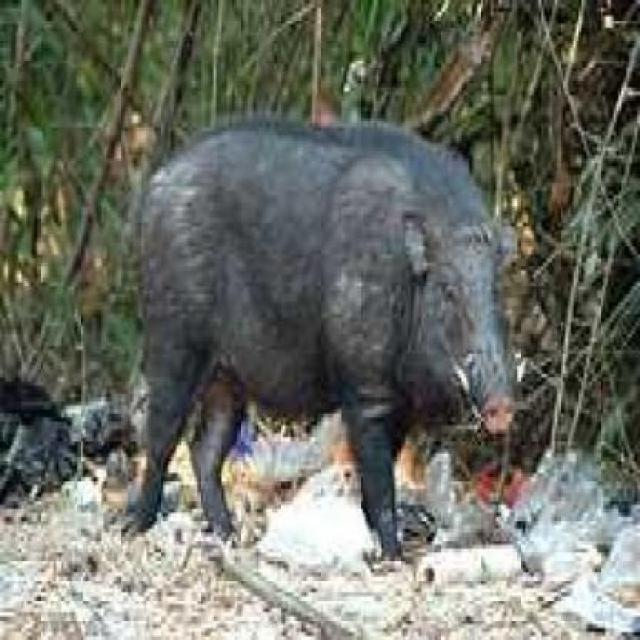pig: (72, 67, 530, 608)
